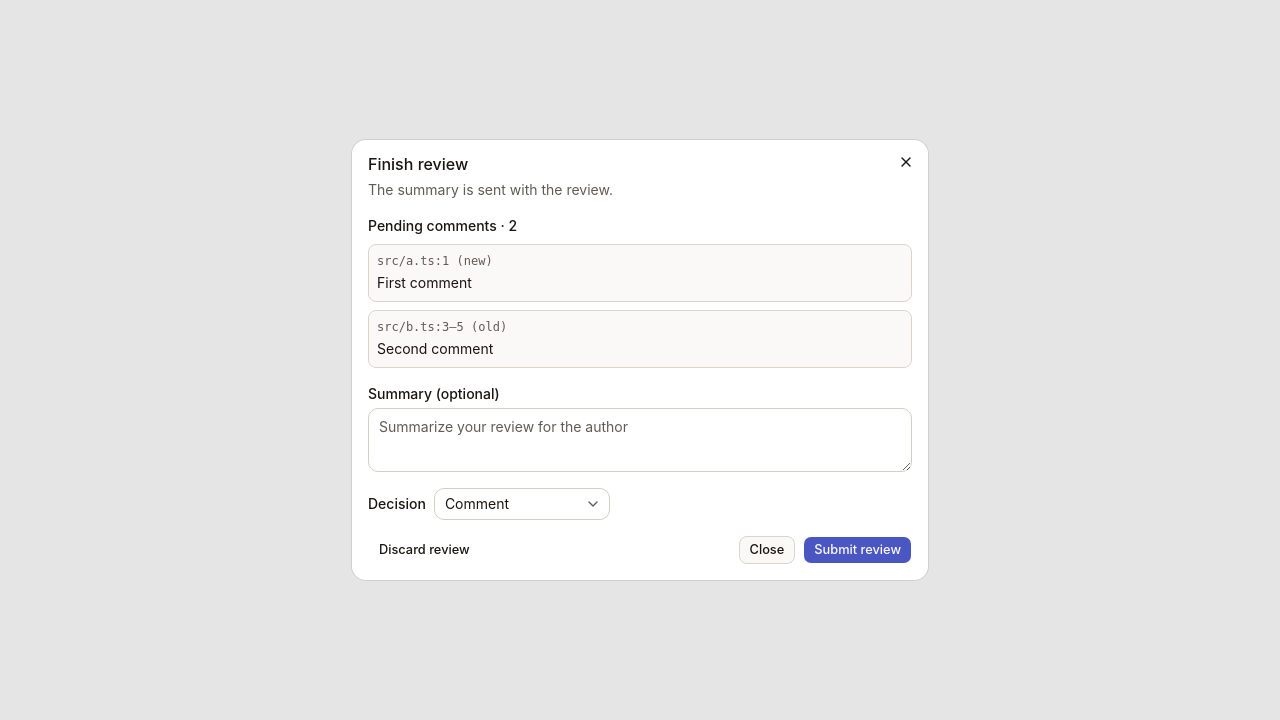
Test: FinishReviewDialog › keeps the dialog open and names a refused submission and a refused discard
The image size is (1280, 720).
In the text box named "Final review summary": (640, 440) [368,408,912,472], type "Summary"
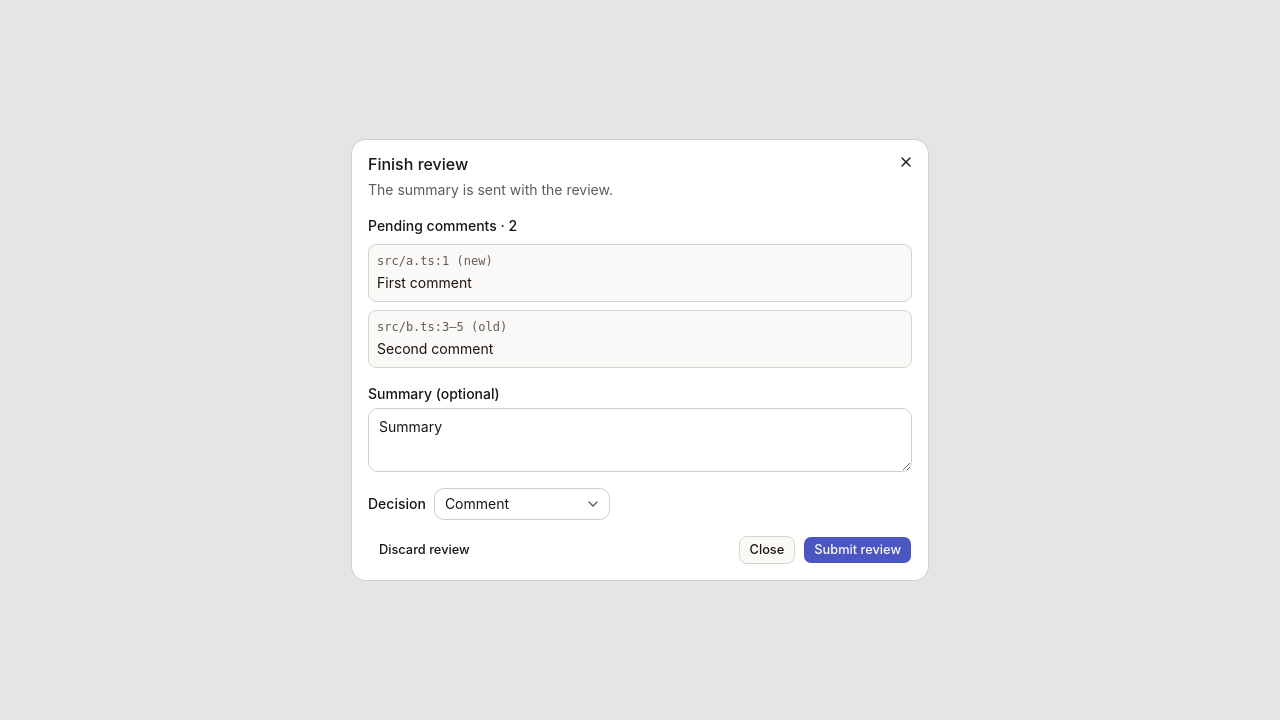
Click the button "Submit review": (858, 550) [803,536,912,564]
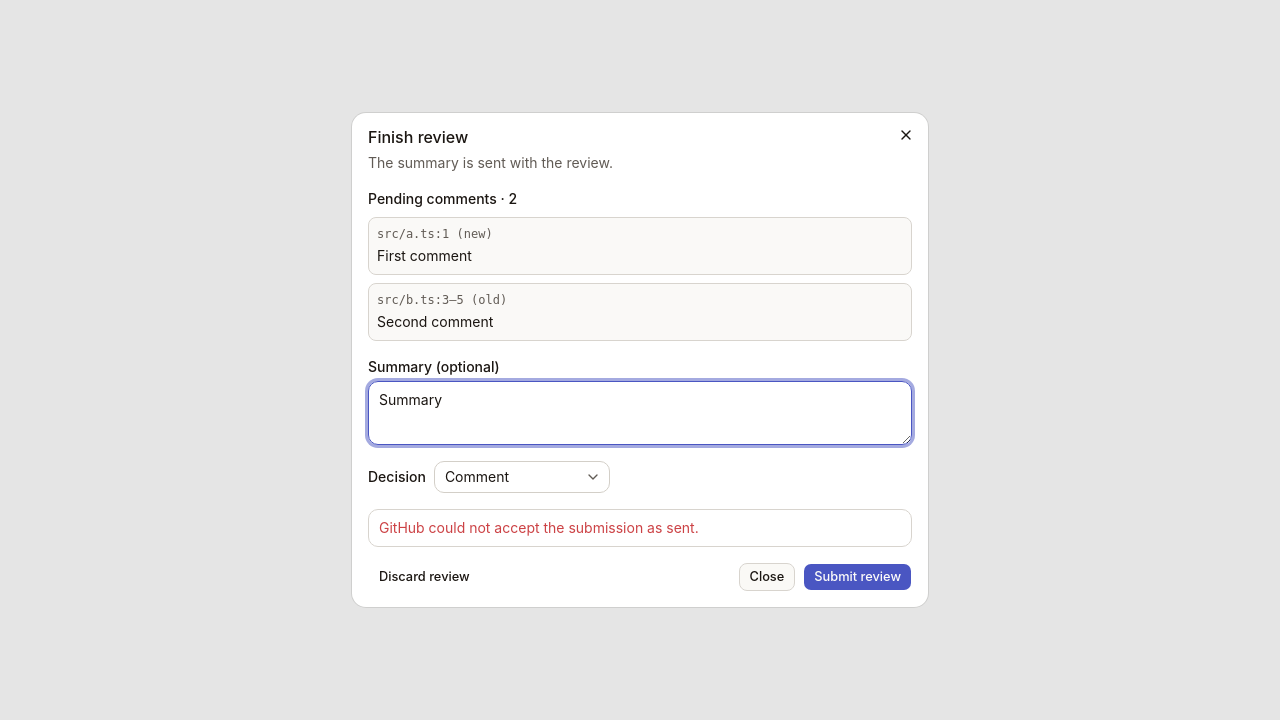
Expected: the message reads "GitHub could not accept the submission as sent.", [379,519,699,536]
Click the button "Discard review": (424, 577) [368,563,481,591]
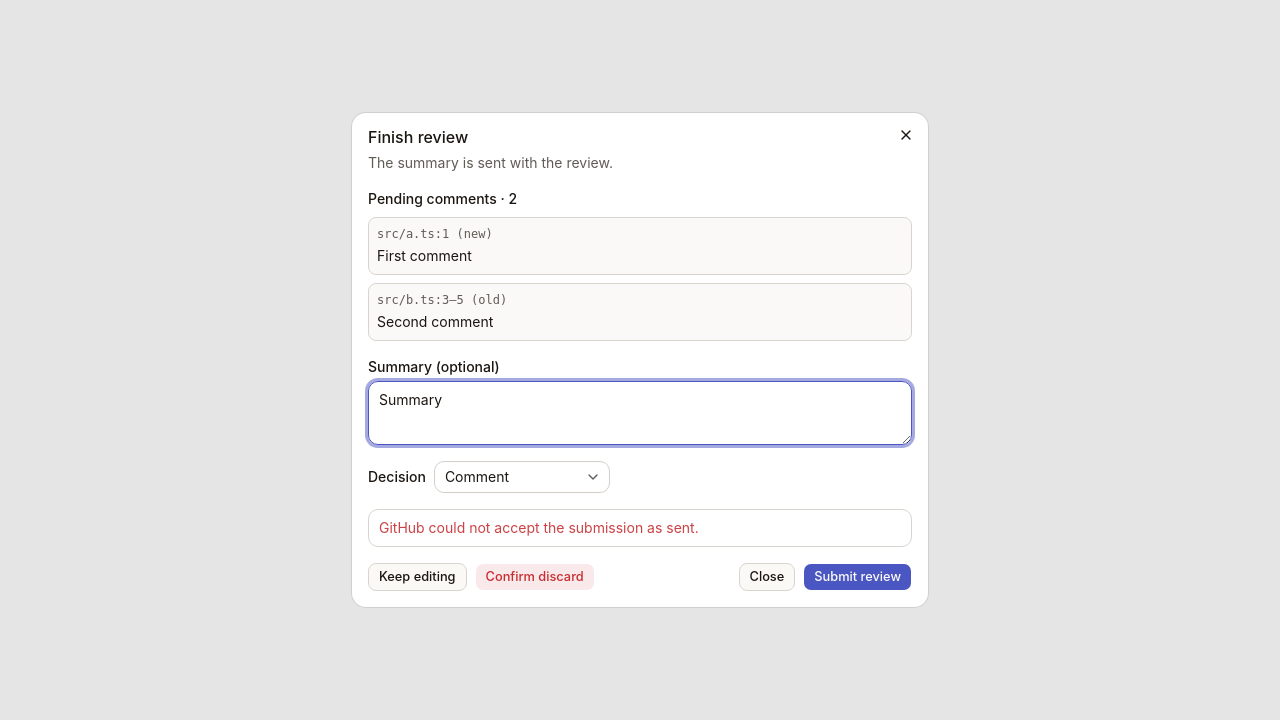
Click the button "Confirm discard": (535, 577) [474,563,595,591]
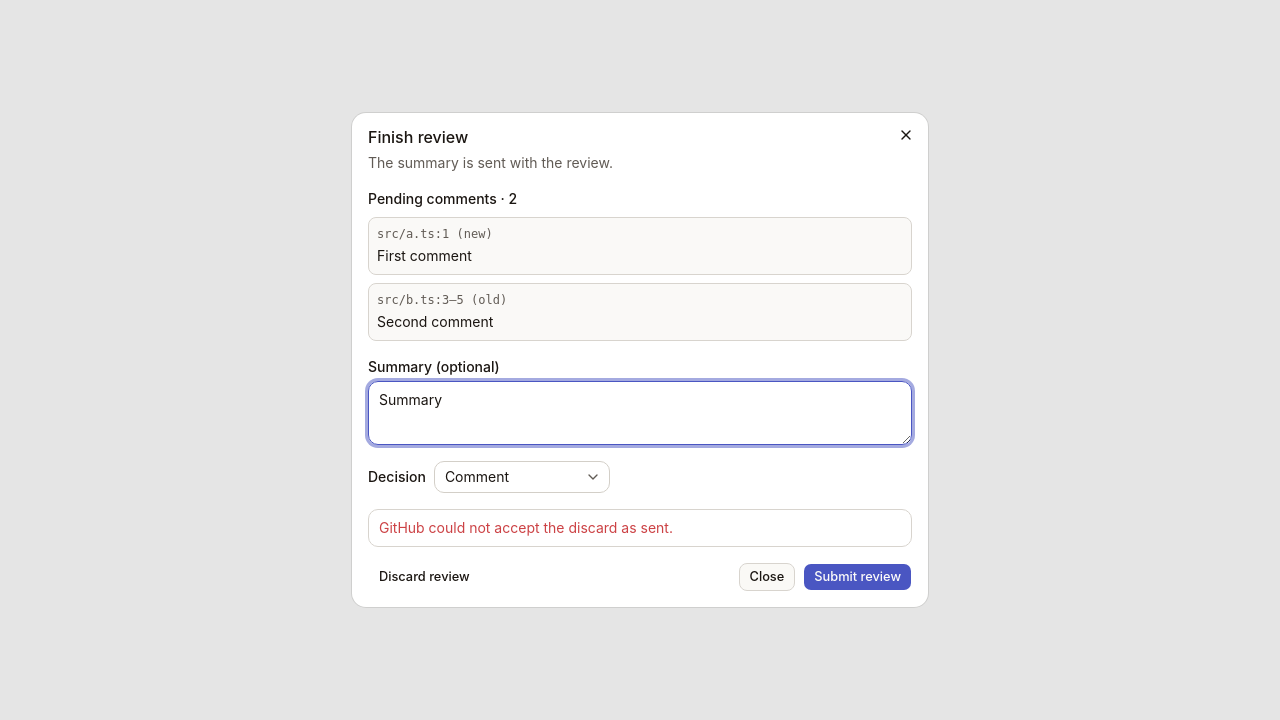
Expected: the message reads "GitHub could not accept the discard as sent.", [379,519,673,536]
